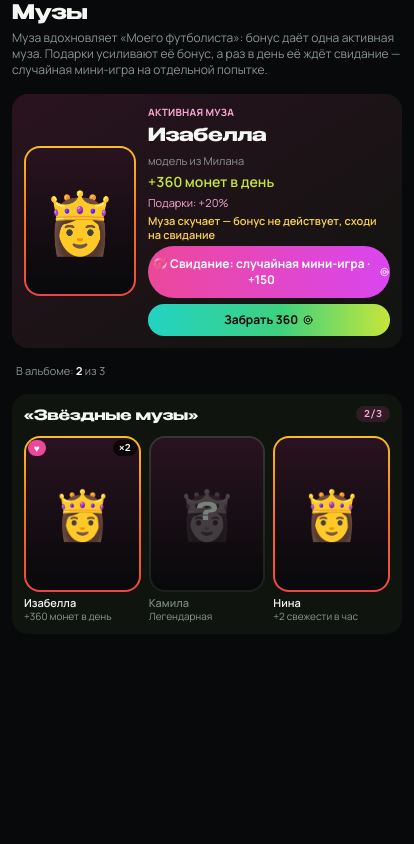
Test case: Музы › claims the daily coins
Click the button "Забрать 360" at (269, 320), box [148,304,390,336]
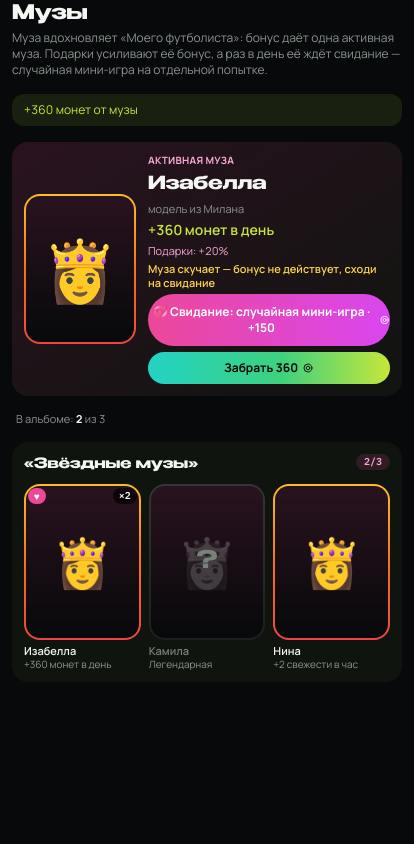
Expected: the text "+360 монет от музы" is shown, [12,94,402,126]
